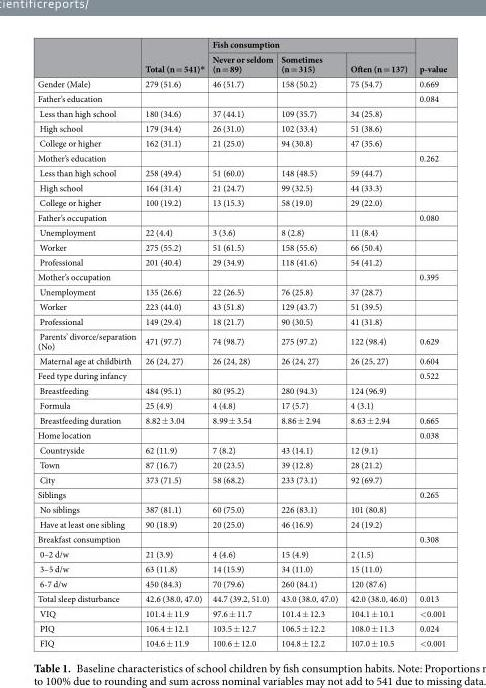table: (36, 37, 446, 648)
table column: (36, 37, 140, 648), (207, 37, 276, 648), (343, 37, 412, 648), (140, 37, 207, 648), (276, 37, 343, 648), (412, 37, 446, 648)
table column header: (36, 37, 446, 76)
table row: (36, 51, 446, 76), (36, 328, 446, 352), (36, 90, 446, 105), (36, 105, 446, 120), (36, 120, 446, 135), (36, 135, 446, 150), (36, 150, 446, 165), (36, 179, 446, 194), (36, 194, 446, 209), (36, 209, 446, 224), (36, 224, 446, 239), (36, 239, 446, 254), (36, 254, 446, 269), (36, 283, 446, 298), (36, 298, 446, 313), (36, 313, 446, 328), (36, 352, 446, 367), (36, 367, 446, 382), (36, 382, 446, 397), (36, 397, 446, 412), (36, 412, 446, 427), (36, 427, 446, 442), (36, 442, 446, 457), (36, 471, 446, 486), (36, 486, 446, 501), (36, 501, 446, 516), (36, 516, 446, 531), (36, 531, 446, 546), (36, 546, 446, 561), (36, 575, 446, 590), (36, 590, 446, 605), (36, 605, 446, 620), (36, 620, 446, 635), (36, 37, 446, 51), (36, 76, 446, 90), (36, 165, 446, 179), (36, 269, 446, 283), (36, 457, 446, 471), (36, 561, 446, 575), (36, 635, 446, 648)
table spanning cell: (207, 37, 412, 51), (140, 37, 207, 76), (412, 37, 446, 76)
